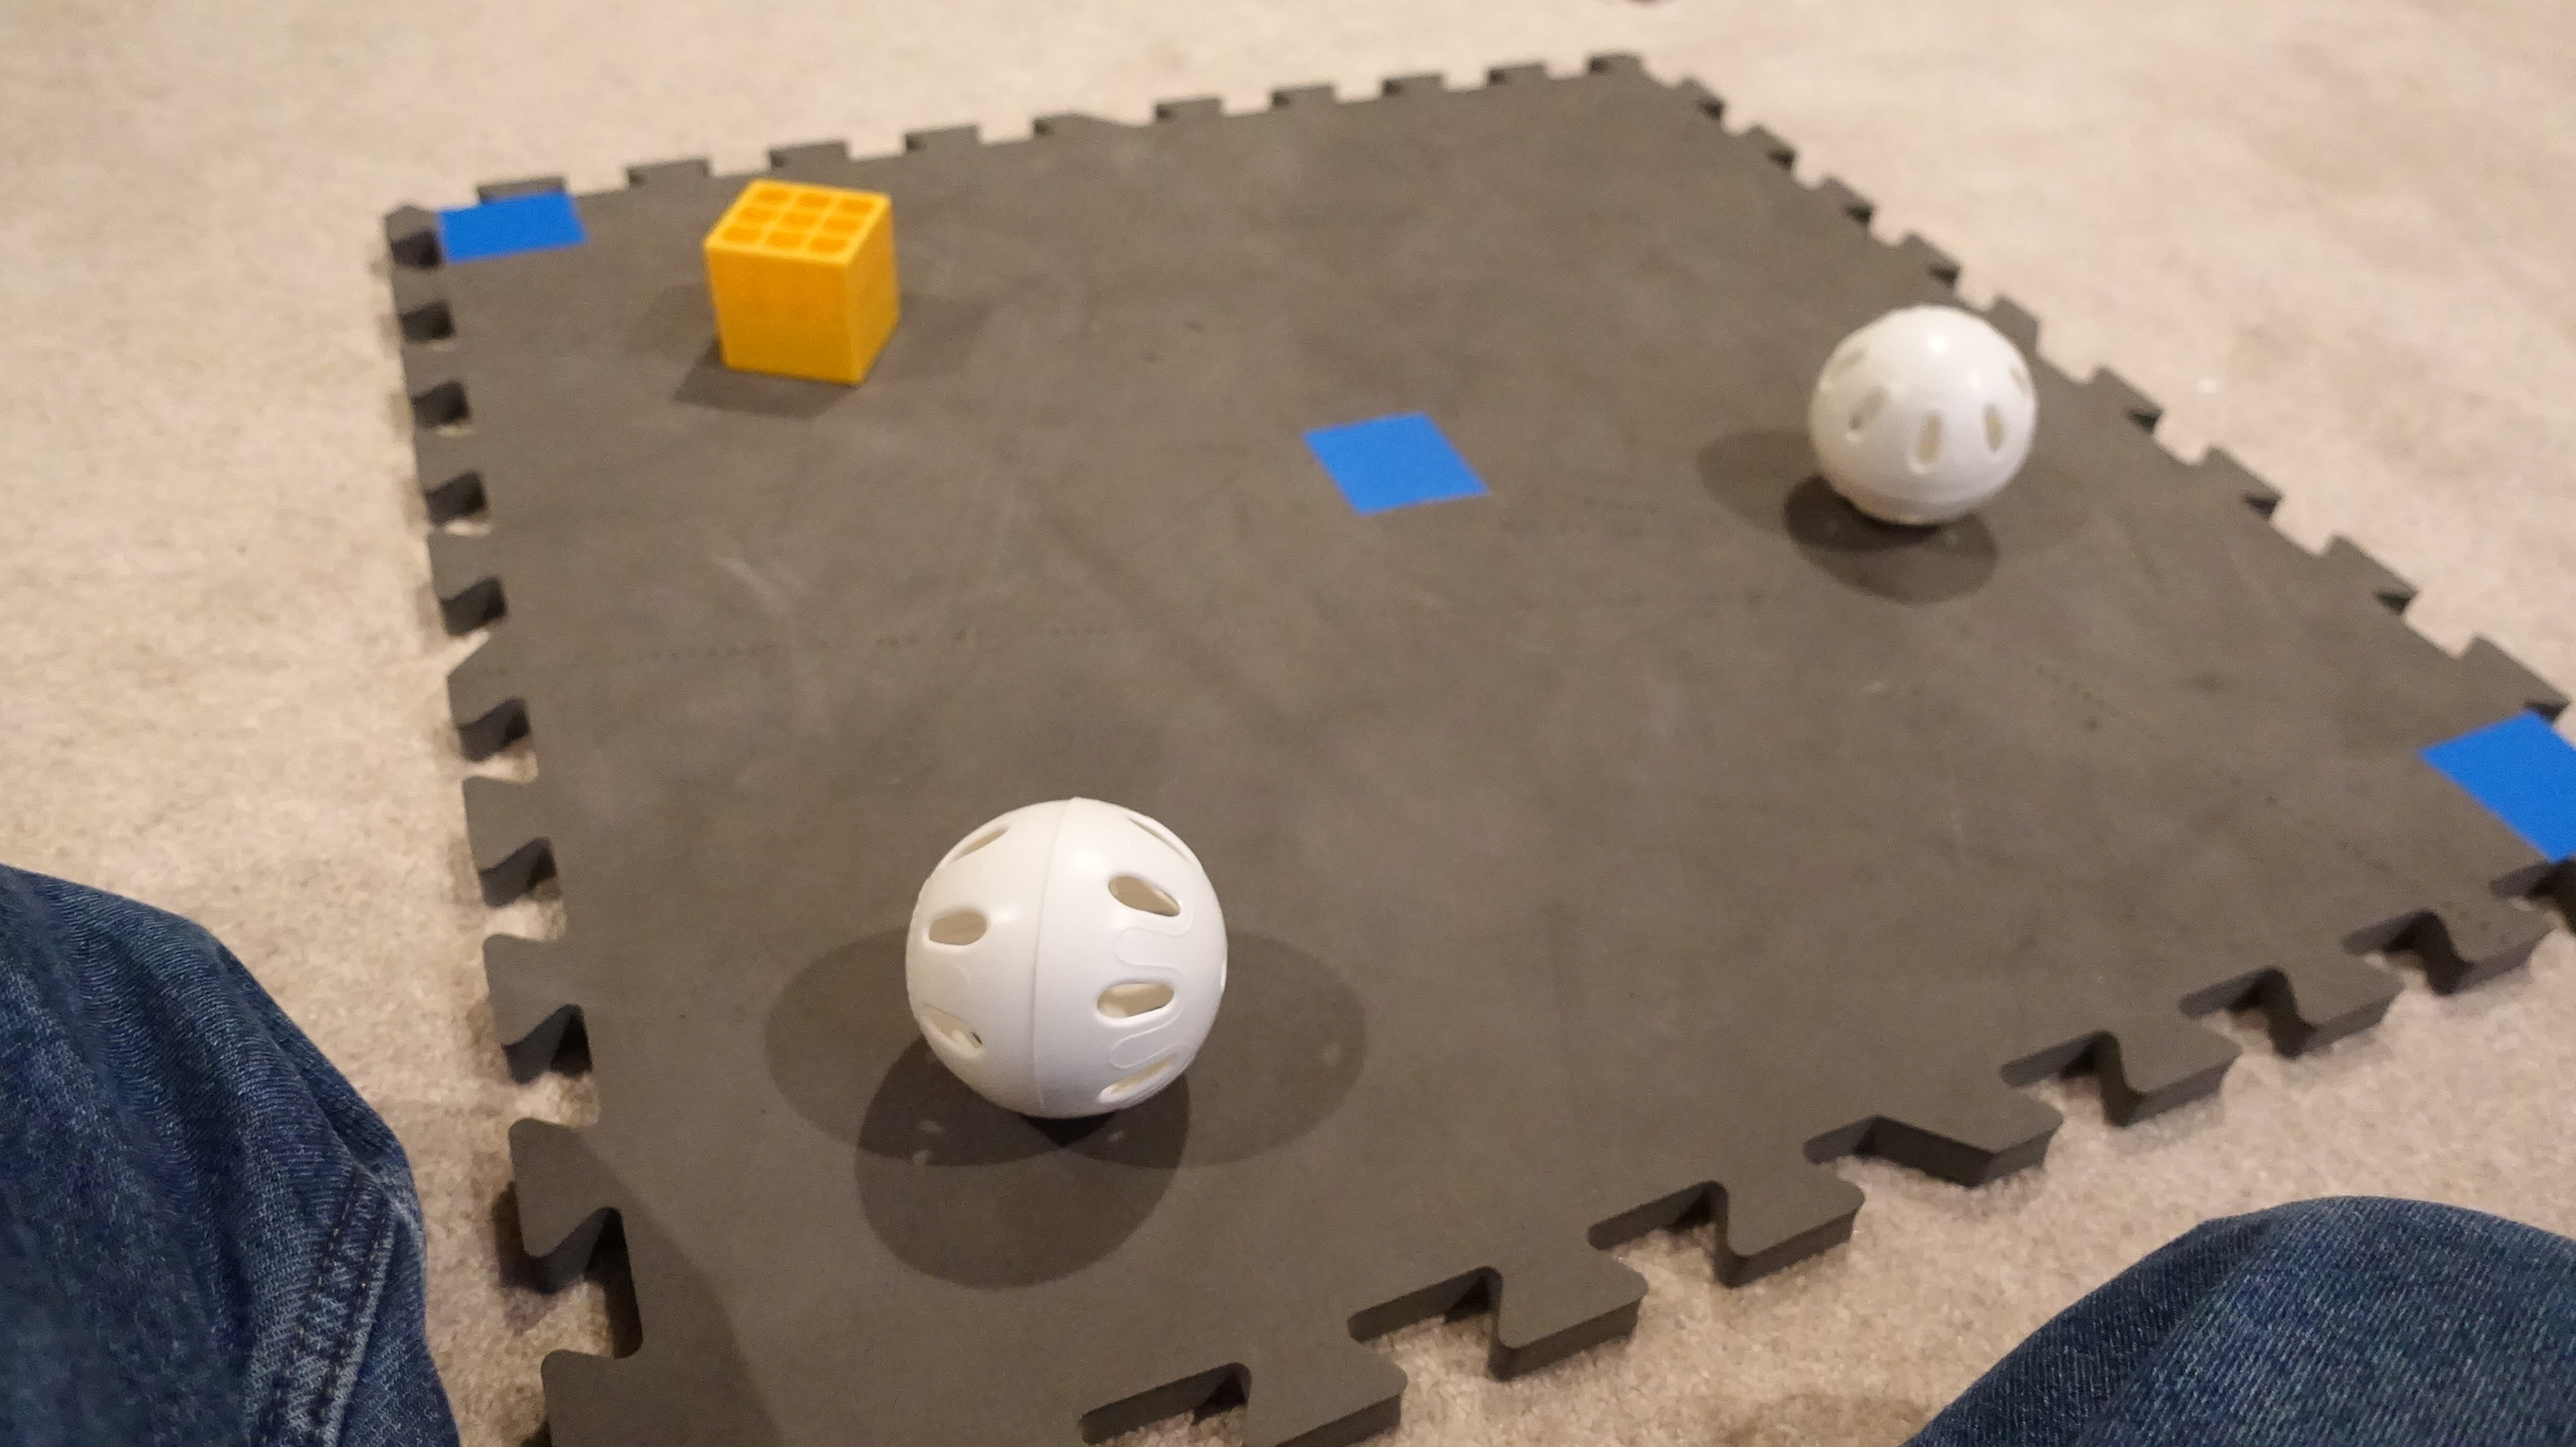gold: (694, 179, 911, 391)
silver: (897, 780, 1237, 1130), (1801, 288, 2070, 534)
